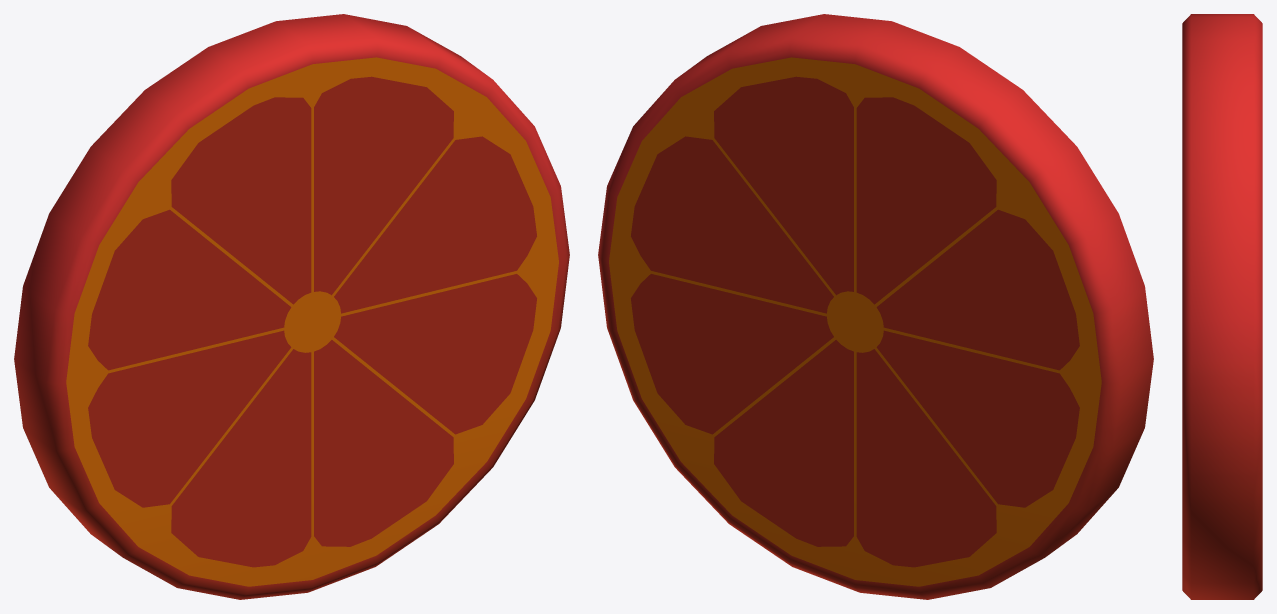
Rendered from Orange_ring.fbx.
The picture shows the model from 3 angles, left to right: view 1: azimuth 30°, elevation 25°; view 2: azimuth 150°, elevation 25°; view 3: azimuth 270°, elevation 25°; orthographic projection. The views are drawn at different scales.
Visible parts, largest first — view 1: Orange_ring; view 2: Orange_ring; view 3: Orange_ring.
Part boxes in pixels (bbox=[...]): Orange_ring: bbox=[14, 14, 569, 599]; Orange_ring: bbox=[598, 14, 1153, 599]; Orange_ring: bbox=[1182, 14, 1262, 599].
Bounding box in the file's own units: 169 × 169 × 23.08.
